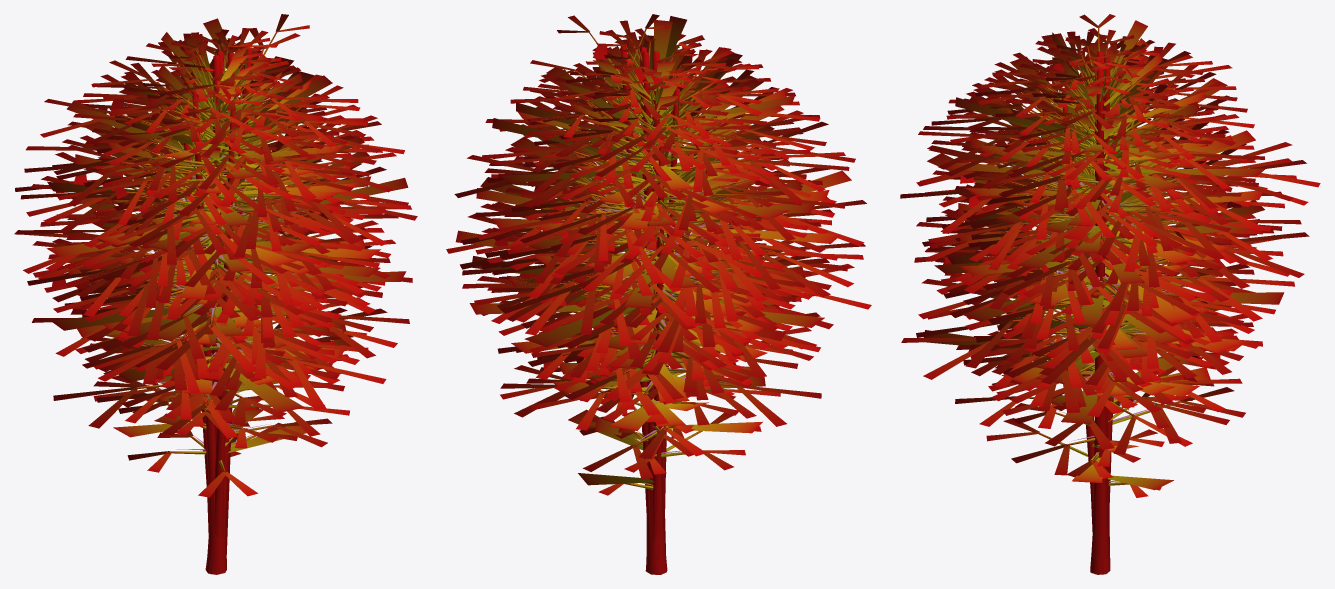
Rendered from maple.glb.
3 views of the same model, side by side, from view 1: azimuth 30°, elevation 25°; view 2: azimuth 150°, elevation 25°; view 3: azimuth 270°, elevation 25° (orthographic).
Visible parts, largest first — view 1: v9, v3, v7, v0, v8, v6, v5, v2, v1, v3_far, v4, v0_far (+8 smaller); view 2: v9, v3, v7, v0, v8, v5, v6, v1, v2, v3_far, v4, v6_far (+8 smaller); view 3: v3, v9, v5, v7, v6, v0, v8, v1, v2, v3_far, v5_far, v0_far (+8 smaller).
Part boxes in pixels (x1,y1,x2,y2): v9: (24,71,409,571); v3: (14,32,412,438); v7: (27,38,408,422); v0: (16,33,396,572); v8: (61,29,366,572); v6: (32,28,385,390); v5: (56,14,417,574); v2: (55,40,381,574); v1: (66,30,376,325); v3_far: (50,40,406,424); v4: (103,32,330,429); v0_far: (67,56,380,558); v9: (454,47,849,558); v3: (462,35,871,458); v7: (462,34,863,392); v0: (481,50,865,574); v8: (500,47,820,574); v5: (446,14,832,574); v6: (461,30,831,403); v1: (486,20,806,321); v2: (487,28,805,559); v3_far: (469,47,851,402); v4: (534,32,771,438); v6_far: (476,16,792,393); v3: (901,40,1308,449); v9: (900,46,1320,574); v5: (928,35,1284,558); v7: (916,14,1293,428); v6: (926,45,1262,416); v0: (918,39,1289,574); v8: (955,48,1258,574); v1: (950,31,1267,310); v2: (943,50,1255,571); v3_far: (923,33,1265,424); v5_far: (960,53,1259,559); v0_far: (934,43,1262,574).
Bounding box in the file's own units: 7.88 × 11.01 × 7.81.
